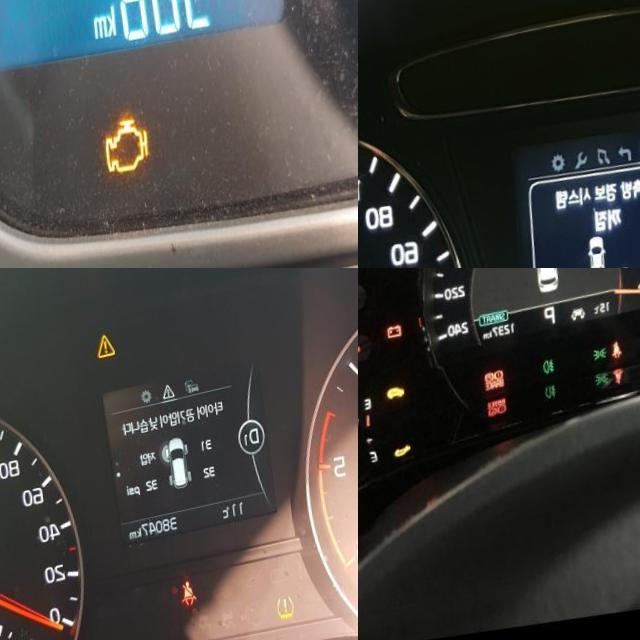Central Warning lamp: (92, 339, 112, 367)
FrontFogLight: (534, 365, 547, 382)
SideLamp: (585, 357, 600, 372)
